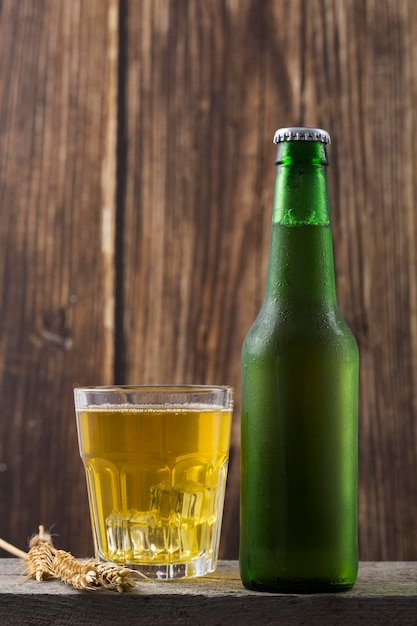alcohol: (240, 129, 363, 592), (71, 381, 238, 580)
